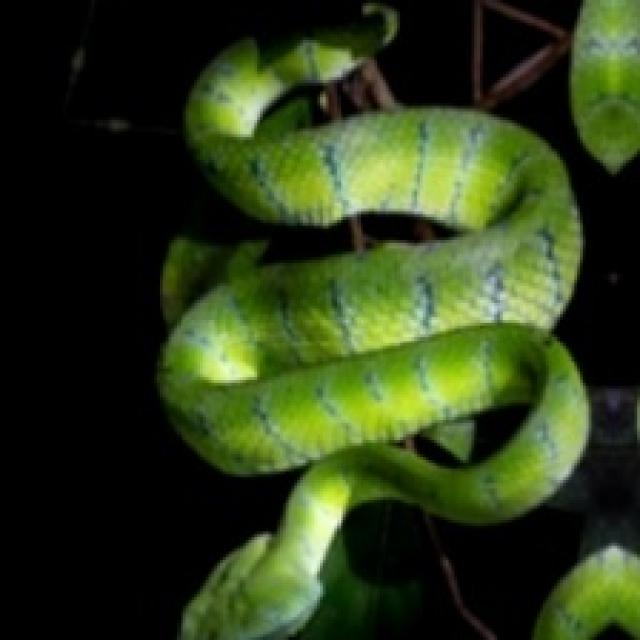north ph temple pitviper: (157, 20, 586, 637)
